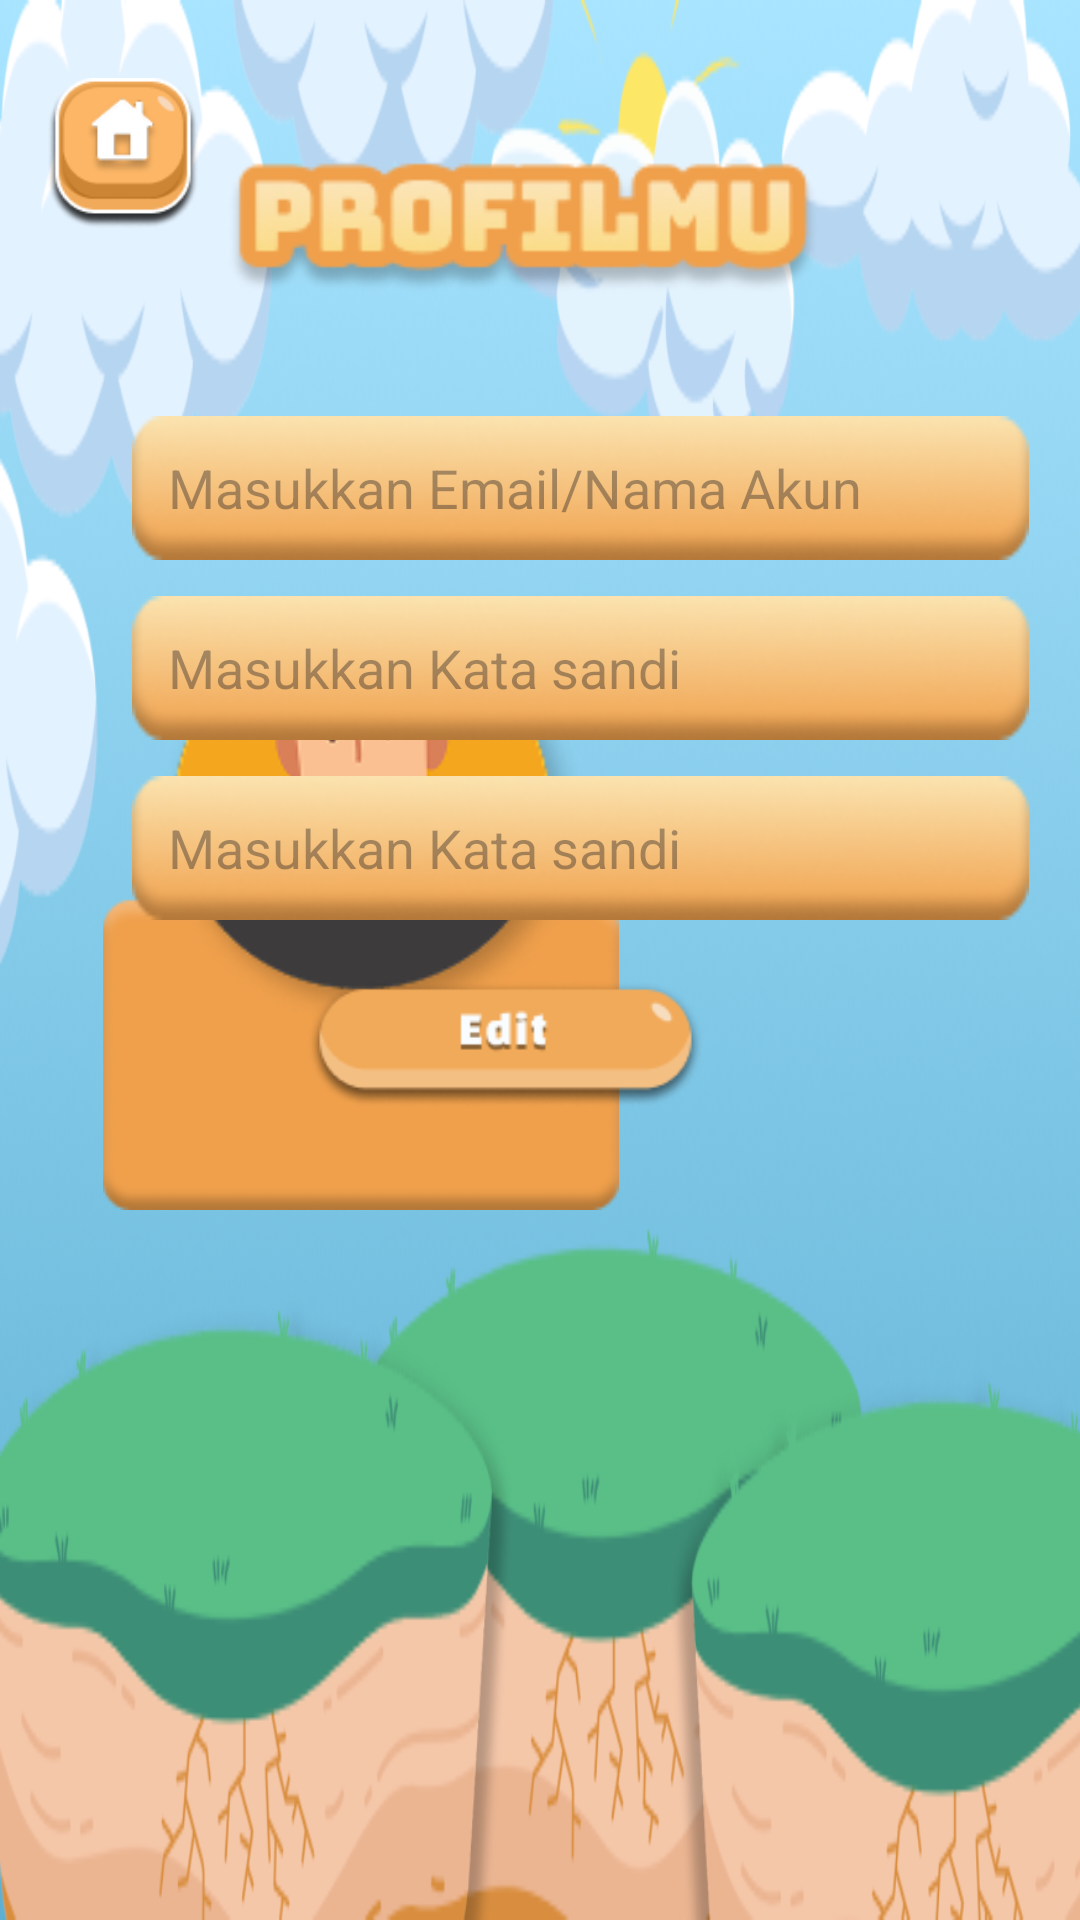

Locate icon controls on the screen. Image size 1080 × 1920, boxes as (x1, y1, x2, y2).
btnhome: (48, 78, 195, 225)
